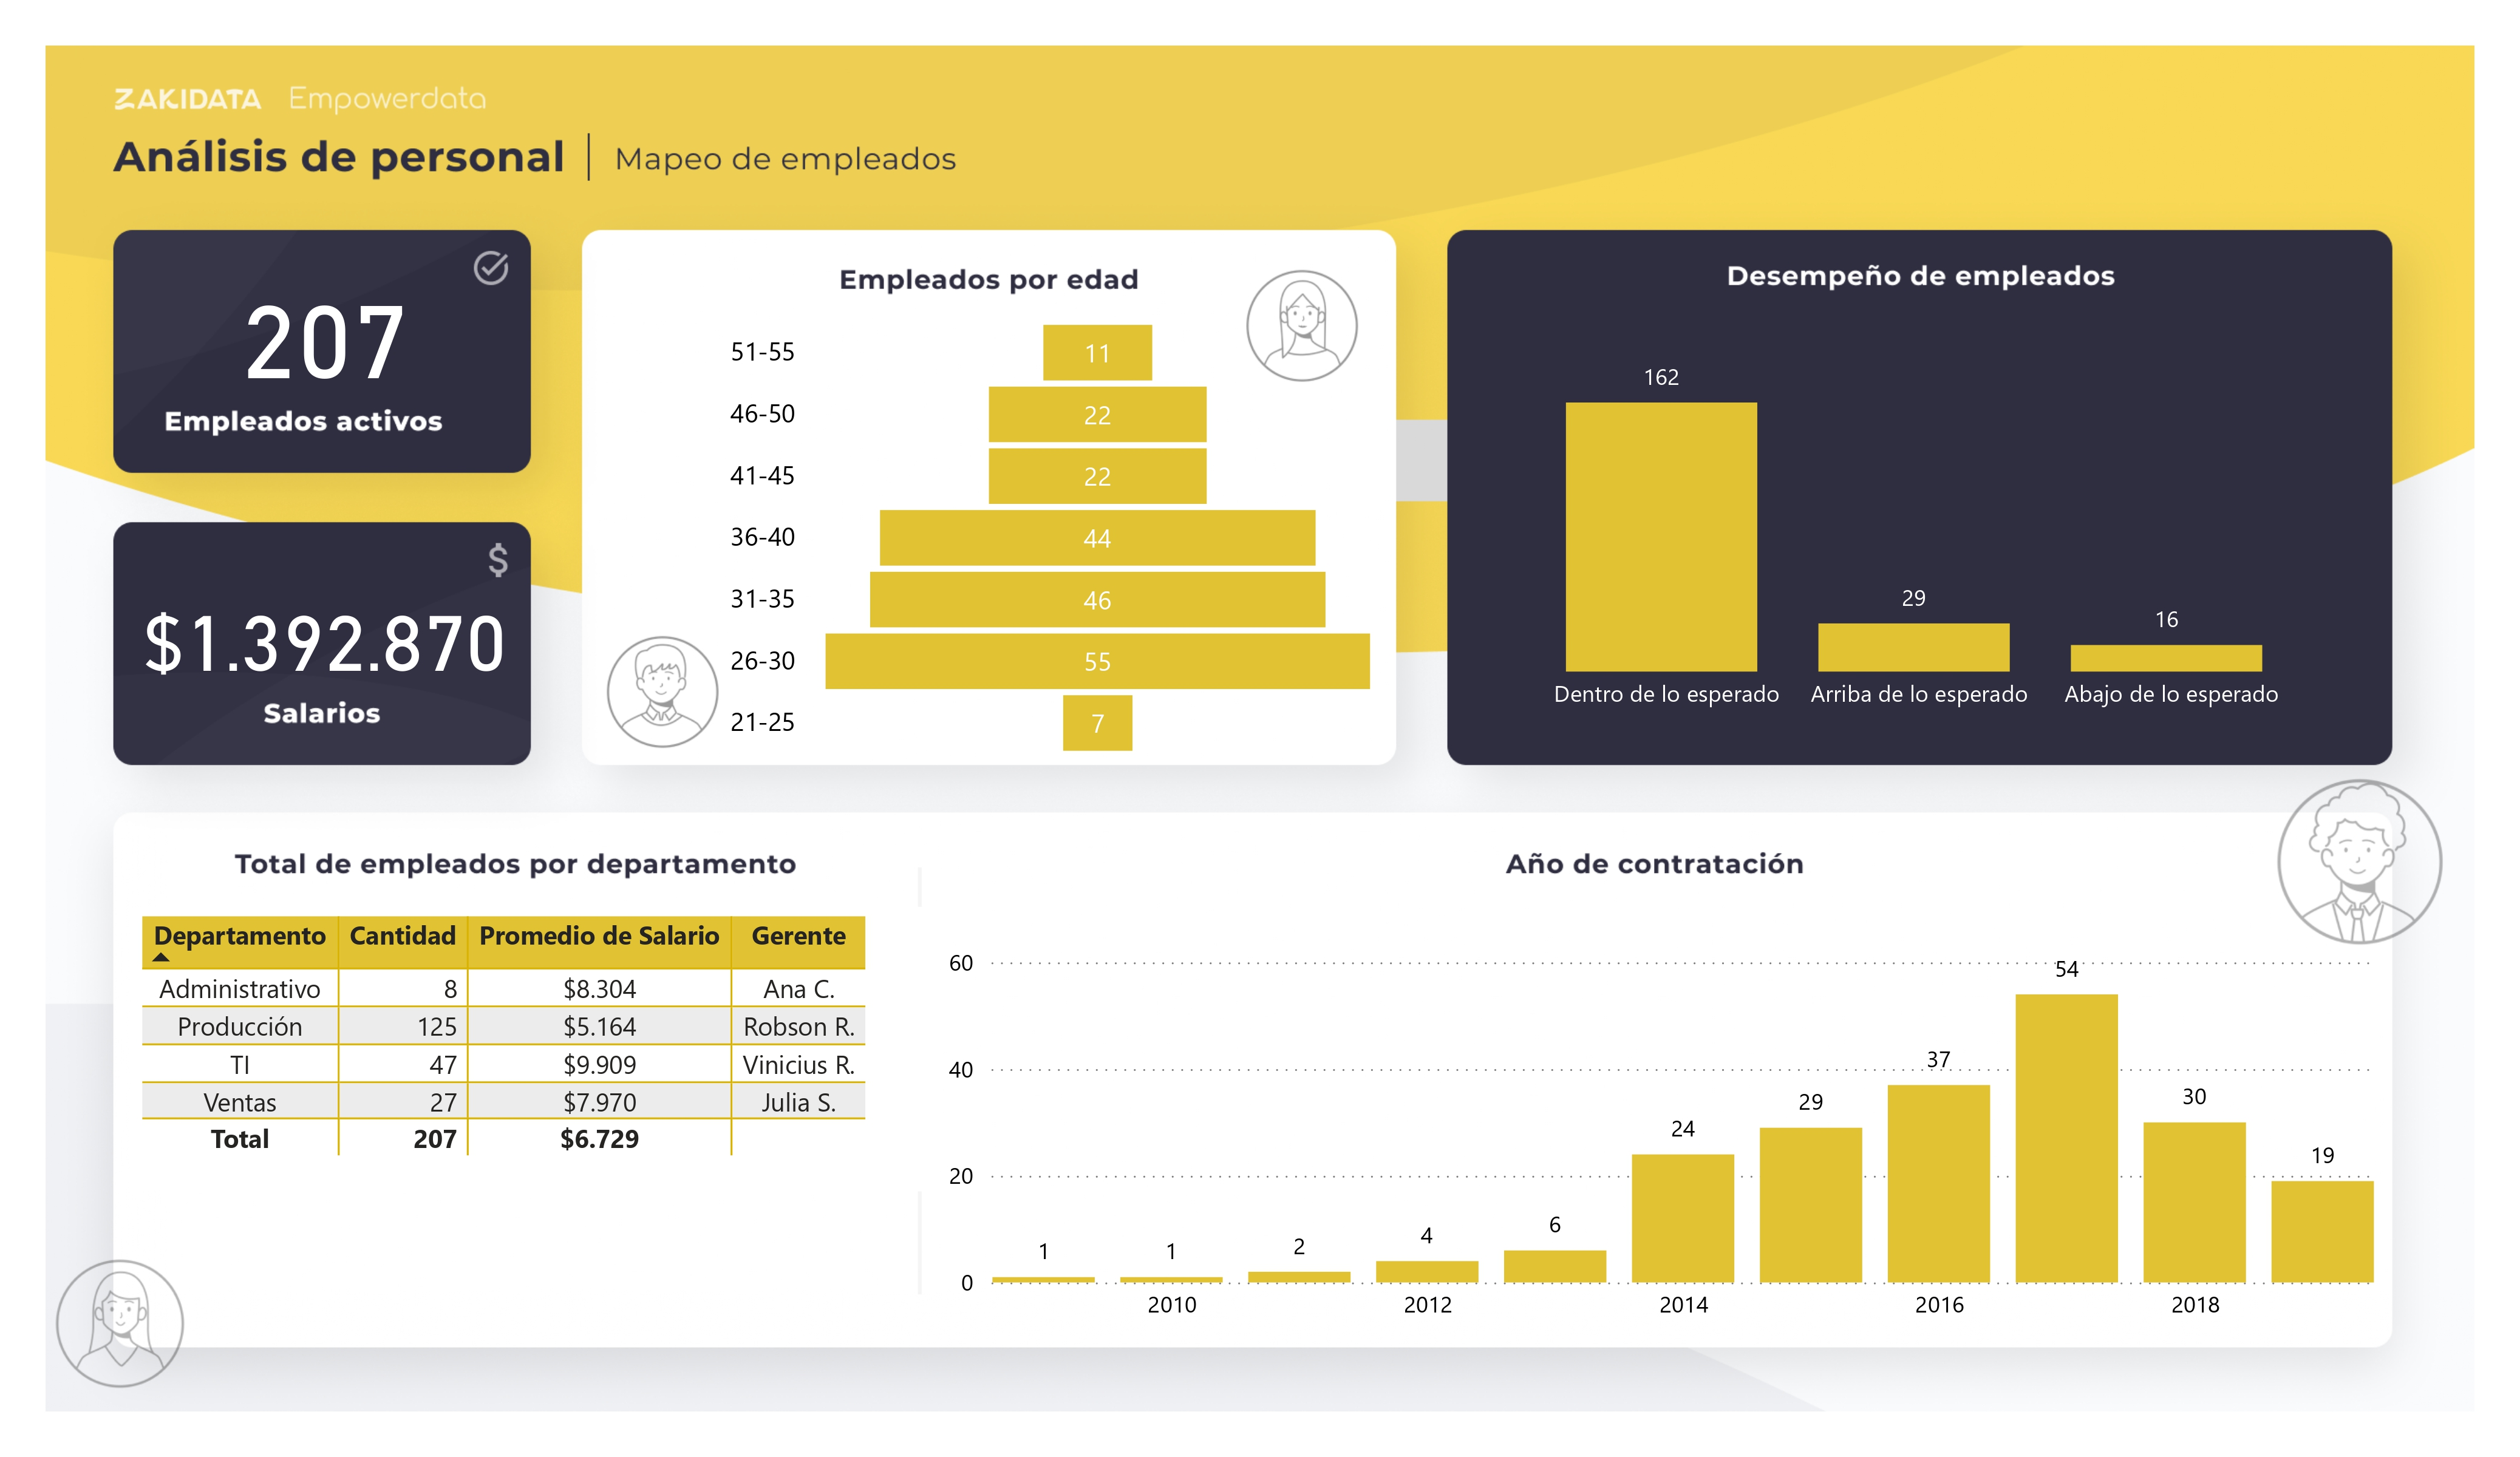

This screenshot's page, from the dashboard's own definition file:
{"tool":"powerbi","page":{"name":"Página 1","canvas":[1280,720],"ordinal":0},"visuals":[{"type":"card","fields":{"Values":["departamentos.Total_Personal"]},"box":[35.8,86.3,222.1,126.3],"z":0},{"type":"card","fields":{"Values":["departamentos.Salarios_Totales"]},"box":[35.8,262.1,222.1,97.9],"z":1000},{"type":"tableEx","fields":{"Values":["departamentos.Departamento","integrantes.ID","integrantes.Salario","departamentos.Gerente"]},"box":[45.3,453.7,425.3,150.5],"z":2000},{"type":"columnChart","fields":{"Y":["departamentos.Total_Personal"],"Category":["integrantes.Fecha de contratación.Variación.Jerarquía de fechas.Año"]},"box":[470.5,463.2,761.1,218.9],"z":3000},{"type":"clusteredColumnChart","fields":{"Y":["departamentos.Total_Personal"],"Category":["integrantes.Registro de desempeño"]},"box":[743.2,149.5,488.4,210.5],"z":4000},{"type":"funnel","fields":{"Y":["departamentos.Total_Personal"],"Category":["integrantes.Rango Edad","integrantes.Edad"]},"box":[355.8,138.9,352.6,241.1],"z":5000}]}

Visuals, with their boxes on the page's 1280x720 design canvas (x1, y1, x2, y2). These are canvas units, not pixel positions in the 2520x1457 screenshot, which may show the page scaled, cropped or inside an application window:
card - departamentos.Total_Personal: (36,86,258,213)
card - departamentos.Salarios_Totales: (36,262,258,360)
tableEx - departamentos.Departamento x integrantes.ID: (45,454,471,604)
columnChart - departamentos.Total_Personal x integrantes.Fecha de contratación.Variación.Jerarquía de fechas.Año: (470,463,1232,682)
clusteredColumnChart - departamentos.Total_Personal x integrantes.Registro de desempeño: (743,150,1232,360)
funnel - departamentos.Total_Personal x integrantes.Rango Edad: (356,139,708,380)
